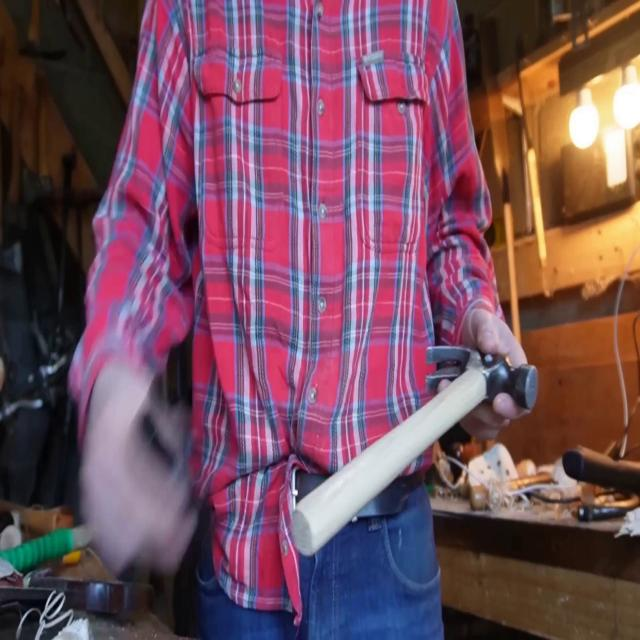hammer: (292, 348, 539, 555)
